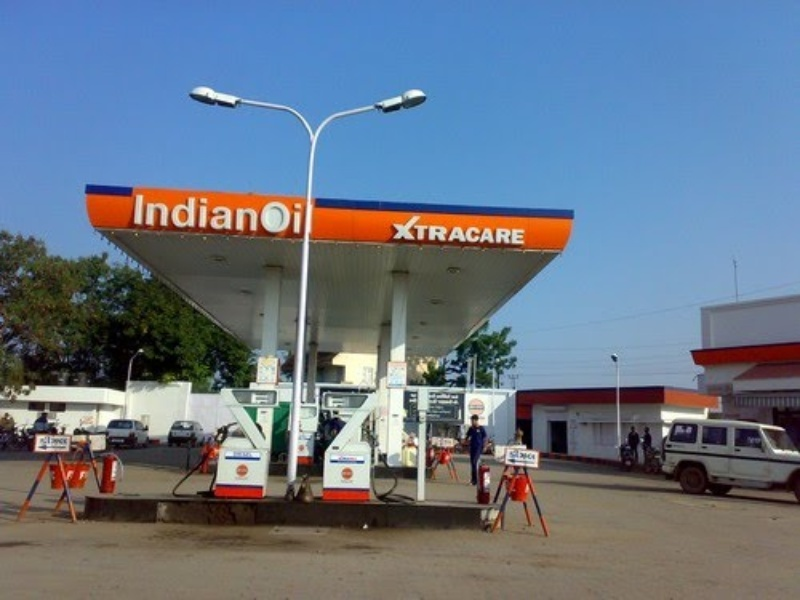text: (289, 191, 305, 236), (145, 191, 160, 236), (161, 191, 176, 236), (177, 191, 192, 236), (193, 191, 208, 236), (209, 191, 224, 236), (225, 191, 240, 236), (241, 191, 256, 236), (257, 191, 272, 236), (273, 191, 288, 236), (401, 215, 416, 245), (417, 215, 432, 245), (433, 215, 448, 245), (449, 215, 464, 245), (465, 215, 480, 245), (481, 215, 496, 245), (497, 215, 512, 245), (513, 215, 527, 245), (135, 191, 144, 236), (513, 450, 528, 465), (393, 215, 400, 245), (529, 450, 543, 465), (49, 434, 64, 447), (433, 393, 448, 405), (449, 393, 460, 405), (505, 450, 512, 465), (41, 434, 48, 447), (65, 434, 69, 447), (431, 393, 432, 405)
